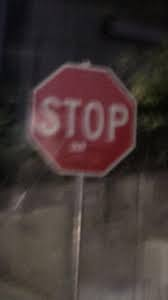stop: (29, 63, 140, 178), (29, 66, 114, 179), (57, 64, 141, 178), (30, 62, 141, 148), (30, 62, 141, 138)
